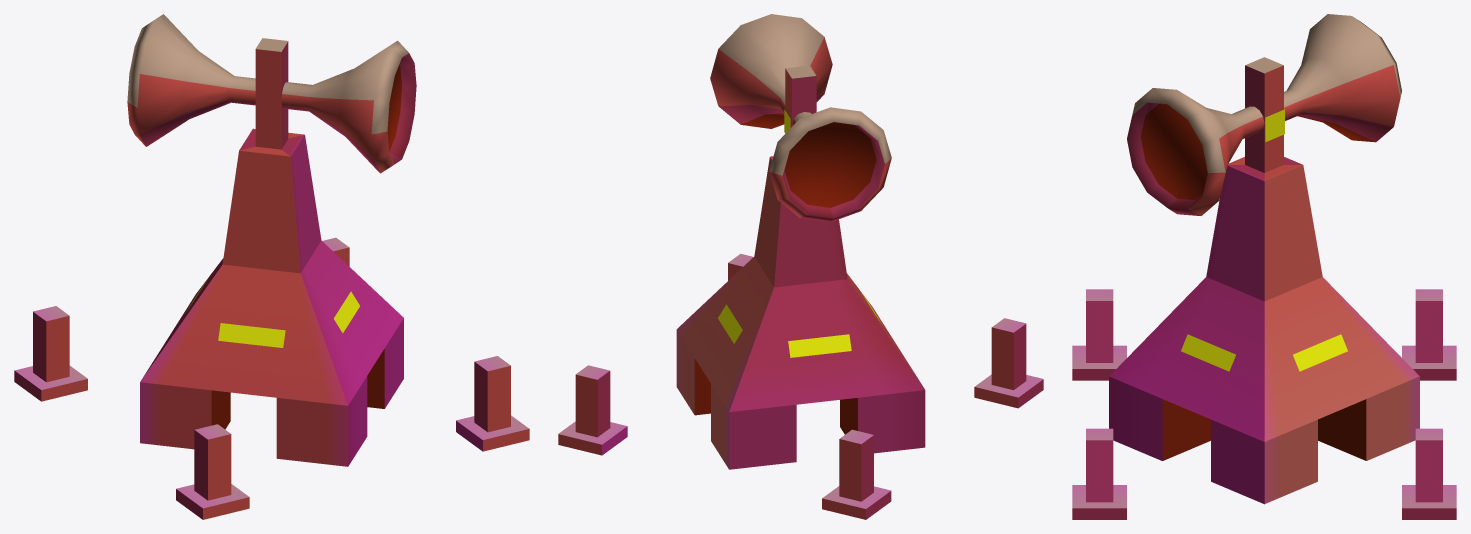
The model's file is CommTower.RedTower.glb.
The picture shows the model from 3 angles, left to right: view 1: azimuth 30°, elevation 25°; view 2: azimuth 150°, elevation 25°; view 3: azimuth 270°, elevation 25°; orthographic projection. The views are drawn at different scales.
Visible parts, largest first — view 1: CommTower.RedTower; view 2: CommTower.RedTower; view 3: CommTower.RedTower.
Part boxes in pixels (box(x1,y1,x2,y2)): CommTower.RedTower: box(14, 14, 529, 519); CommTower.RedTower: box(558, 14, 1043, 519); CommTower.RedTower: box(1072, 14, 1456, 519).
Bounding box in the file's own units: 2.8 × 3.1 × 2.8.
Materials: 2 (1 with a texture image).
